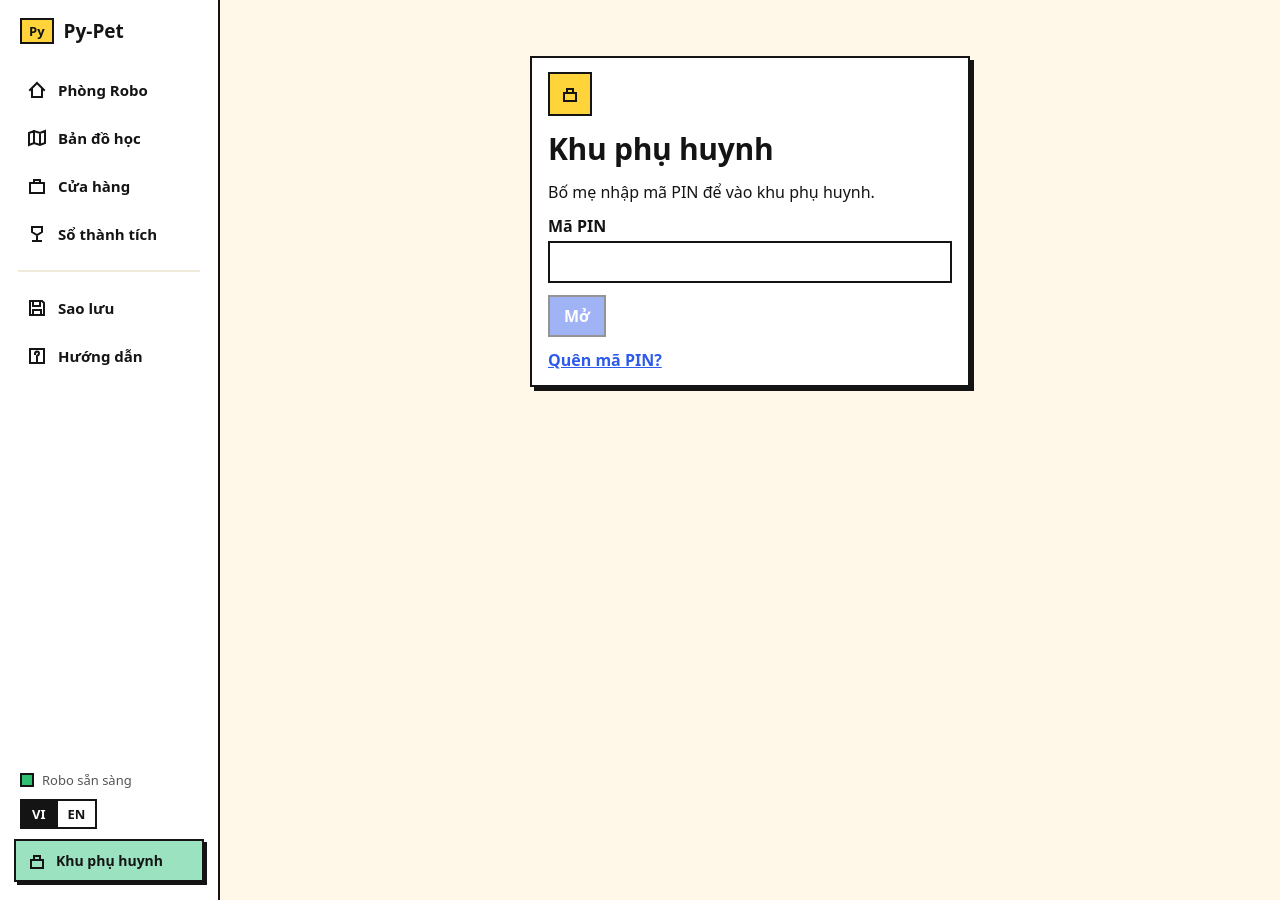
Test case: ParentScreen frame › the right PIN turns the side menu into 5 vertical tabs
In the password field labelled "Mã PIN": (750, 262) [548,241,952,283], type "1234"
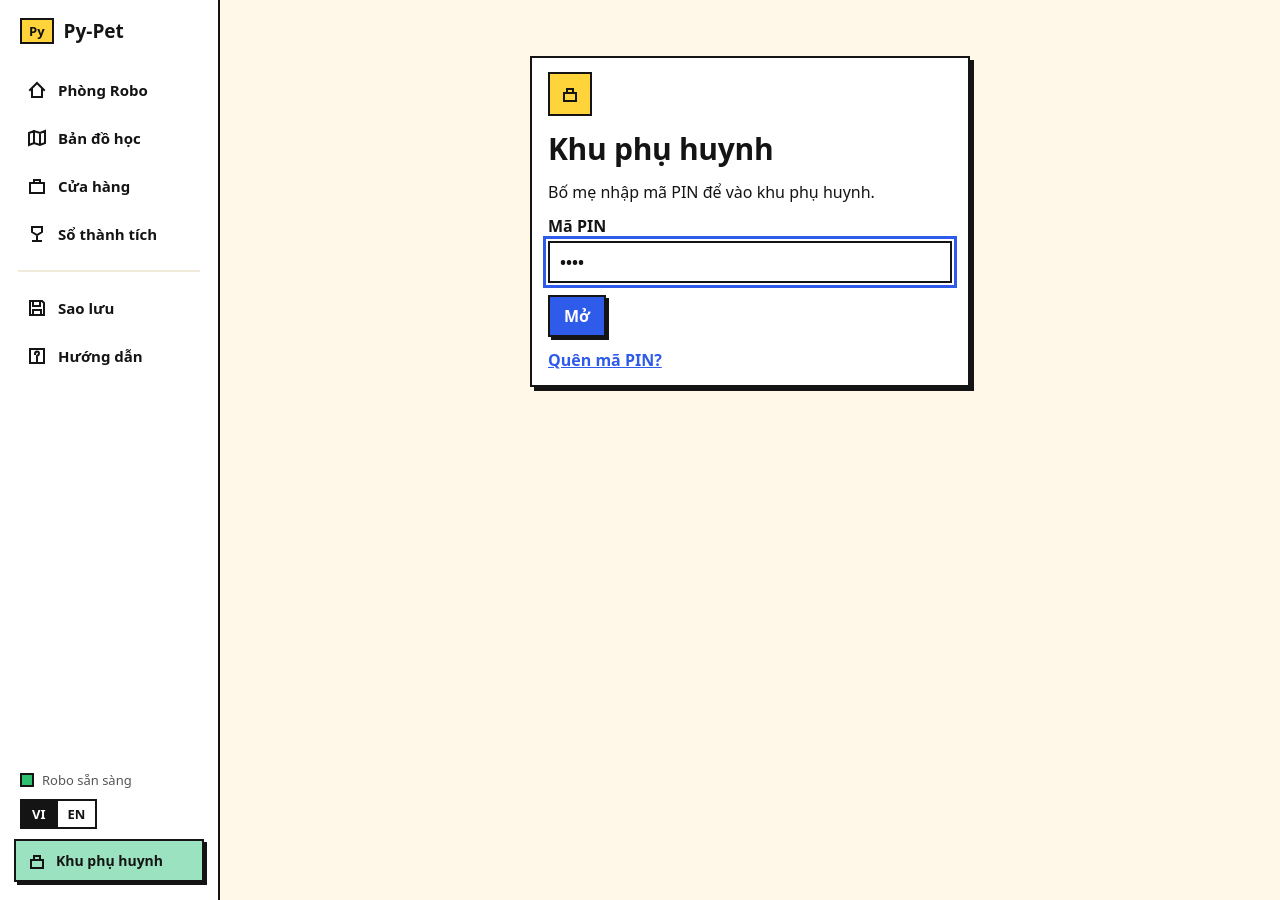
Click the button "Mở": (577, 316) [548,295,606,337]
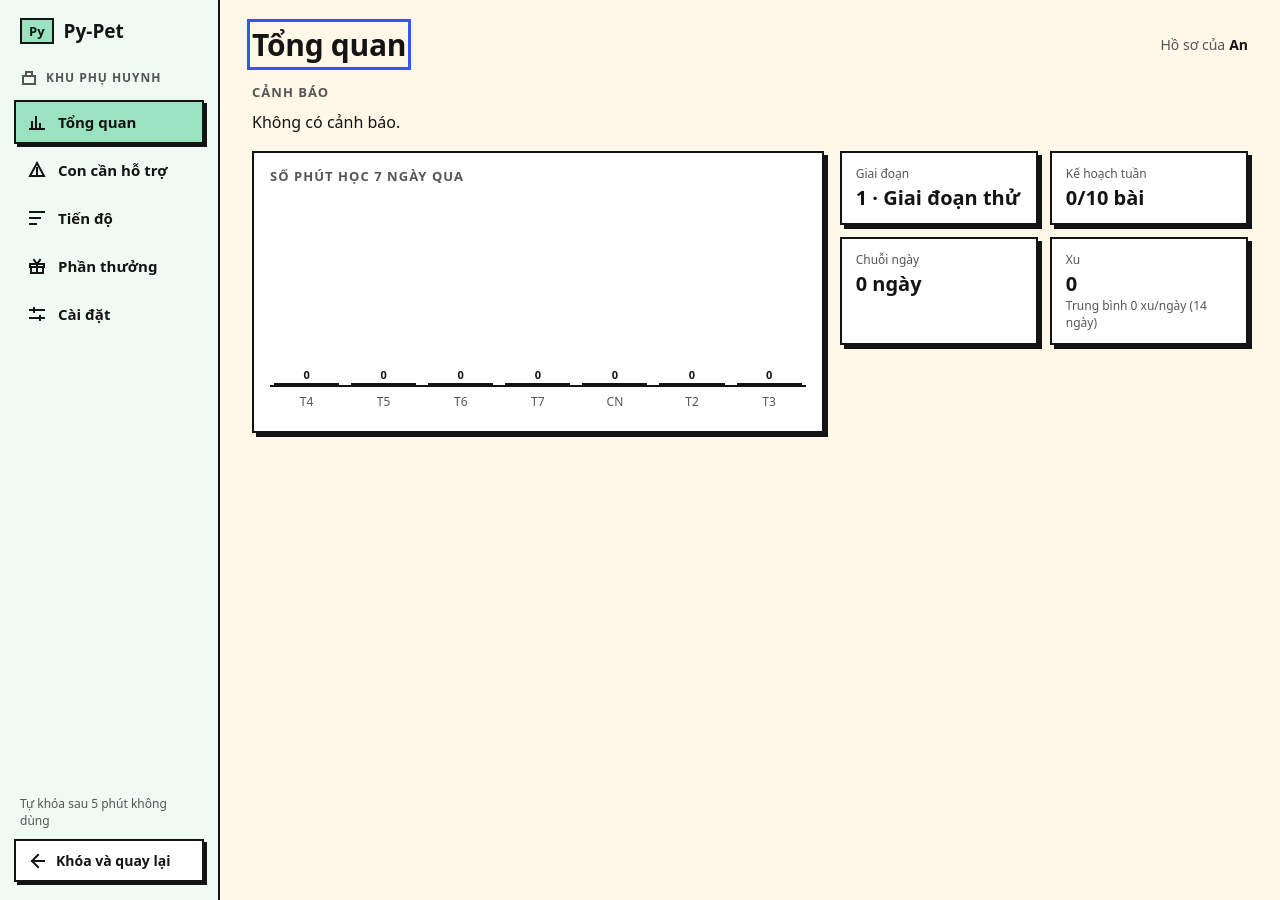
Expected: the navigation bar "Khu phụ huynh" is shown, [0,0,220,899]
Result: the tabs read "Tổng quan", "Con cần hỗ trợ", "Tiến độ", "Phần thưởng", "Cài đặt", in this order at [14,100,204,144]; [14,148,204,192]; [14,196,204,240]; [14,244,204,288]; [14,292,204,336]
Result: the heading "Tổng quan" is shown at [252,24,406,65]
